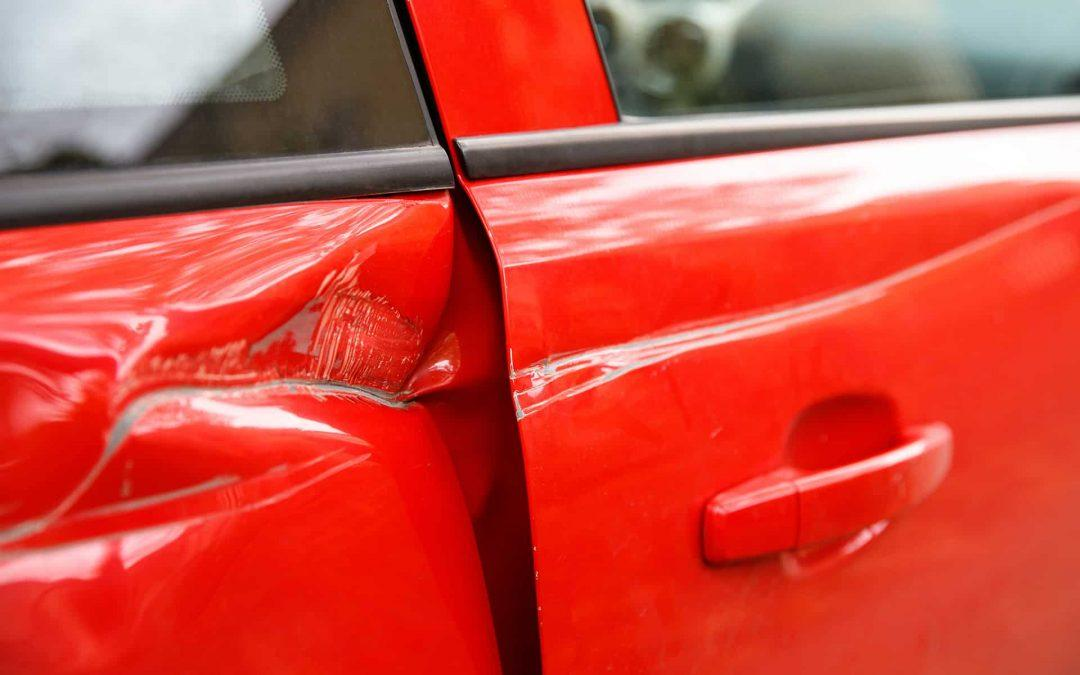dent: (0, 202, 648, 600)
scratch: (502, 188, 1079, 432), (0, 220, 470, 462)
